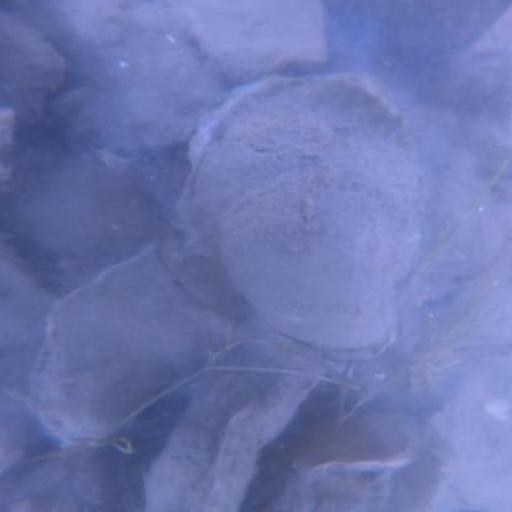Oyster-Closed: (34, 257, 211, 447), (147, 336, 336, 512), (49, 12, 217, 150), (177, 4, 337, 81), (289, 411, 426, 473), (1, 15, 63, 112)
Oyster-Open: (171, 67, 427, 283), (213, 188, 399, 368)
